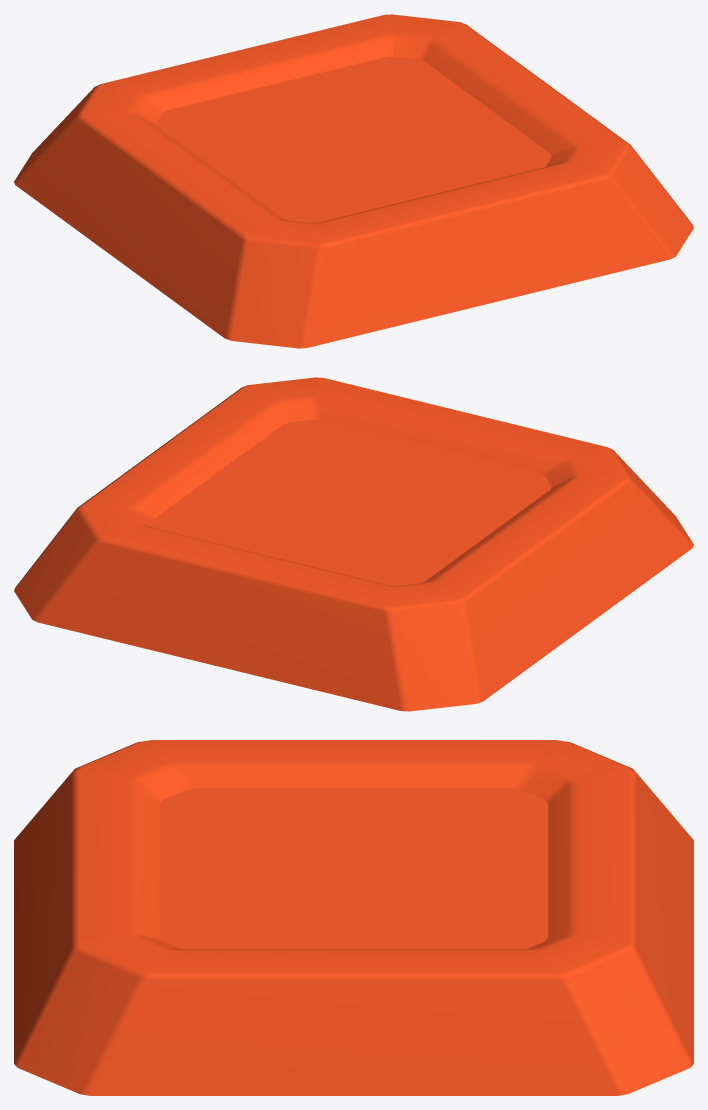
The model's file is obstacle_2_001.fbx.
The picture shows the model from 3 angles, top to bottom: view 1: azimuth 30°, elevation 25°; view 2: azimuth 150°, elevation 25°; view 3: azimuth 270°, elevation 25°; orthographic projection. The views are drawn at different scales.
Parts seen in each view (by area): view 1: obstacle_2_001; view 2: obstacle_2_001; view 3: obstacle_2_001.
Part boxes in pixels (bbox=[...]): obstacle_2_001: bbox=[14, 14, 693, 348]; obstacle_2_001: bbox=[14, 377, 693, 711]; obstacle_2_001: bbox=[14, 740, 693, 1095].
Size of the model in its own units: 261 by 261 by 40.56.
